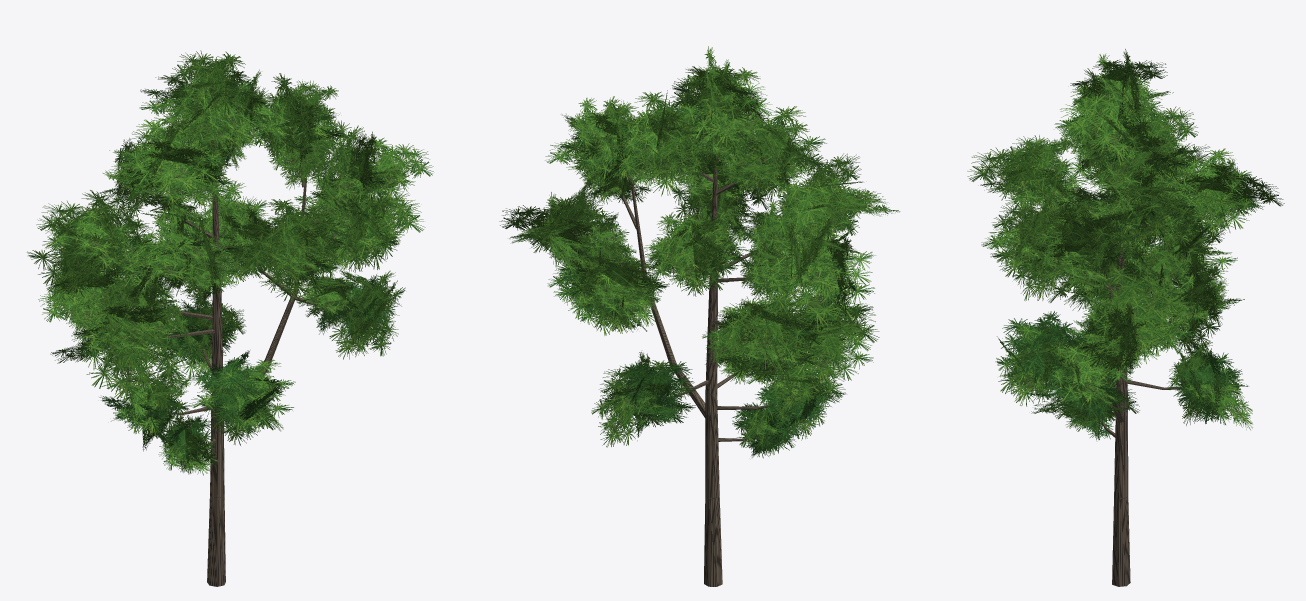
File: pohon_cemara_rindang_instanced.glb
The picture shows the model from 3 angles, left to right: view 1: azimuth 30°, elevation 25°; view 2: azimuth 150°, elevation 25°; view 3: azimuth 270°, elevation 25°; orthographic projection.
Parts seen in each view (by area): view 1: Pohon_Cemara_Rindang; view 2: Pohon_Cemara_Rindang; view 3: Pohon_Cemara_Rindang.
Boxes of the visible parts, <box> form: Pohon_Cemara_Rindang: <box>27,50,433,586</box>; Pohon_Cemara_Rindang: <box>499,46,900,586</box>; Pohon_Cemara_Rindang: <box>967,49,1284,586</box>.
Bounding box in the file's own units: 10.32 × 13.68 × 7.6.
1 material, 1 textured.
